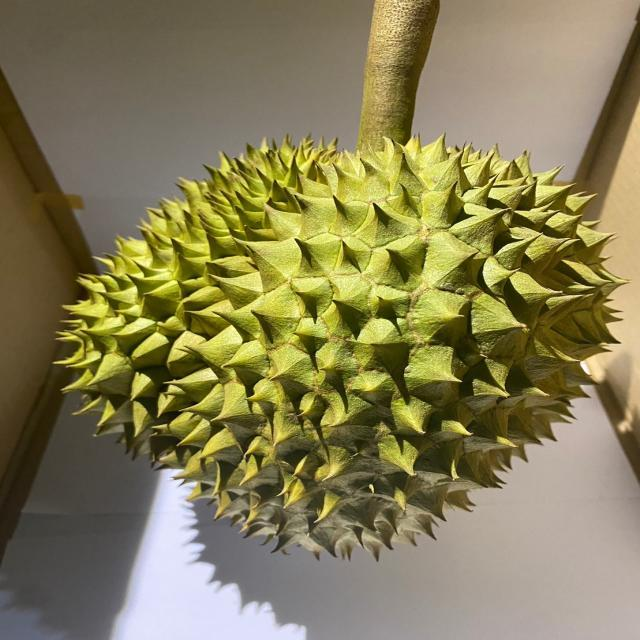immature: (58, 132, 624, 560)
